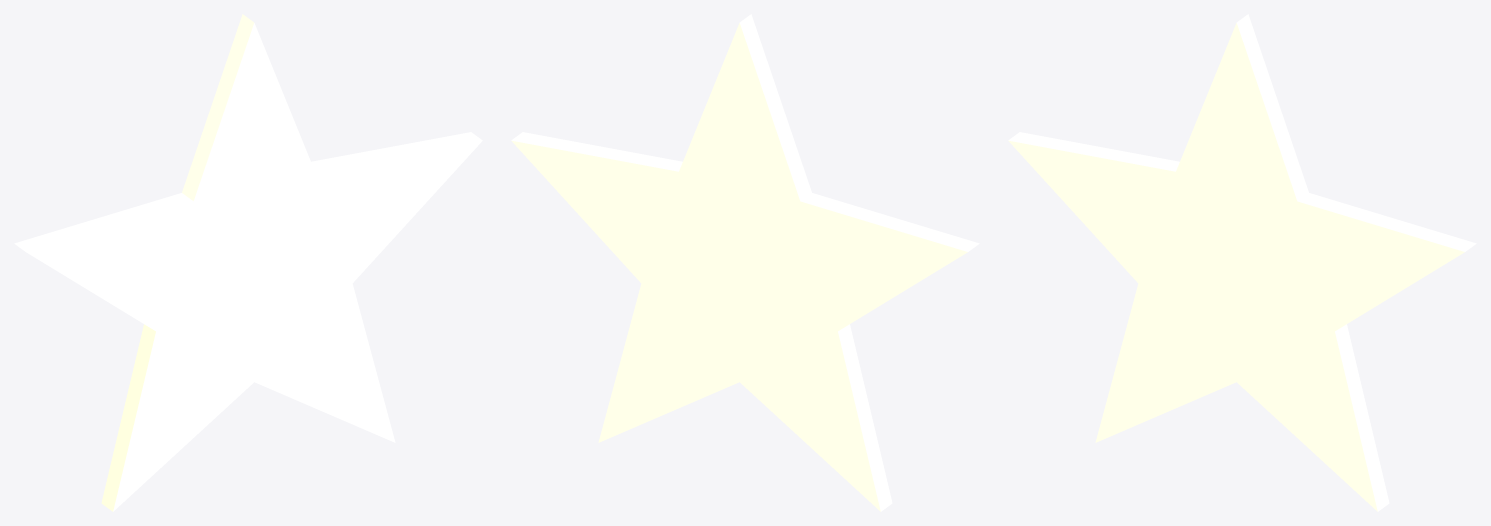
The model's file is hit-flash.glb.
3 renders of one model, left to right at view 1: azimuth 30°, elevation 25°; view 2: azimuth 150°, elevation 25°; view 3: azimuth 330°, elevation 25°, orthographic.
Visible parts, largest first — view 1: impact-star; view 2: impact-star; view 3: impact-star.
Part boxes in pixels (left/top/right/bottom): impact-star: left=14, top=14, right=482, bottom=511; impact-star: left=511, top=14, right=979, bottom=511; impact-star: left=1008, top=14, right=1476, bottom=511.
Size of the model in its own units: 0.00124 by 0.00118 by 5.5e-05.
